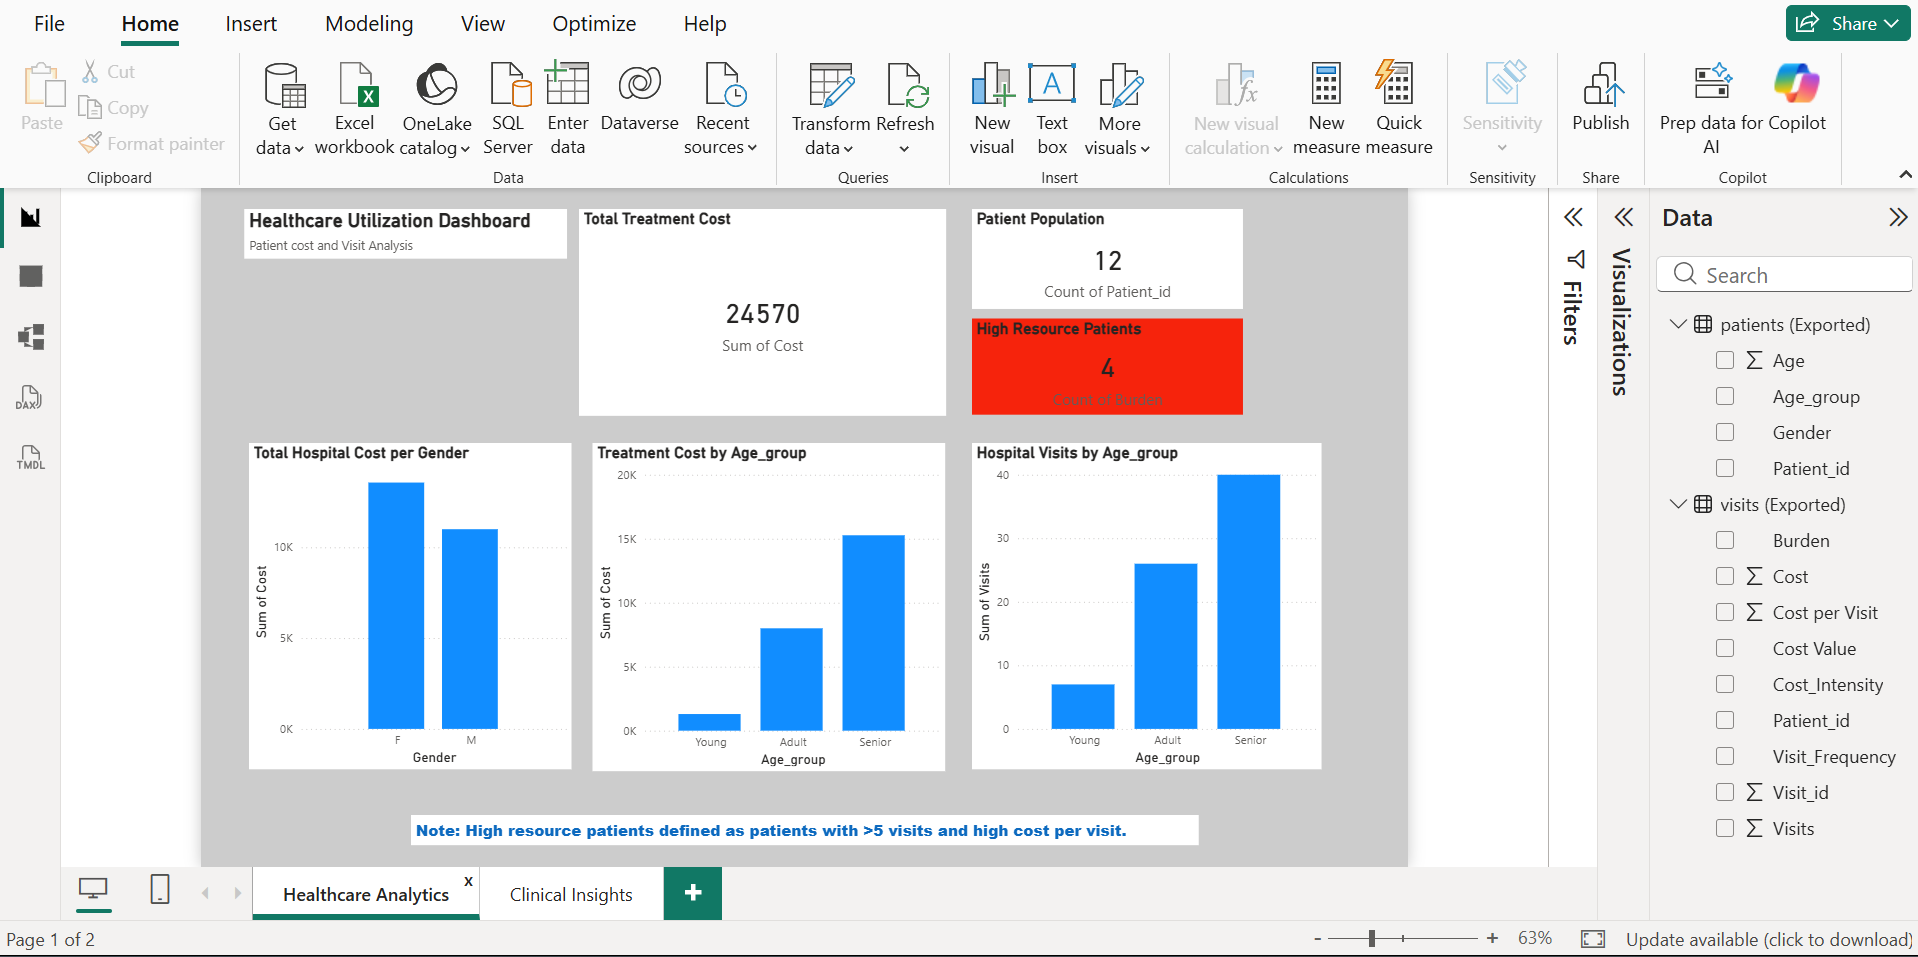

This screenshot's page, from the dashboard's own definition file:
{"tool":"powerbi","page":{"name":"Healthcare Analytics","canvas":[1280,720],"ordinal":0},"visuals":[{"type":"clusteredColumnChart","title":"Total Hospital Cost per Gender","fields":{"Category":["patients (Exported).Gender"],"Y":["Sum(visits (Exported).Cost)"]},"box":[51,270.2,342,345.8],"z":0},{"type":"clusteredColumnChart","title":"Hospital Visits by Age_group","fields":{"Category":["patients (Exported).Age_group"],"Y":["Sum(visits (Exported).Visits)"]},"box":[818.3,270.2,370.4,345.8],"z":1000},{"type":"card","title":"Total Treatment Cost","fields":{"Values":["Sum(visits (Exported).Cost)"]},"box":[400.6,22.7,389.3,219.2],"z":2000},{"type":"card","title":"Patient Population","fields":{"Values":["CountNonNull(patients (Exported).Patient_id)"]},"box":[818.3,22.7,287.2,105.8],"z":3000},{"type":"card","title":"High Resource Patients","fields":{"Values":["CountNonNull(visits (Exported).Burden)"]},"box":[818.3,138,287.2,102],"z":4000},{"type":"clusteredColumnChart","title":"Treatment Cost by Age_group","fields":{"Category":["patients (Exported).Age_group"],"Y":["Sum(visits (Exported).Cost)"]},"box":[415.8,270.2,374.2,347.7],"z":5000},{"type":"textbox","title":"Healthcare Utilization Dashboard","box":[45.4,22.7,342,52.9],"z":6000},{"type":"textbox","box":[223,665.2,835.3,32.1],"z":7000}]}

Visuals, with their boxes on the page's 1280x720 design canvas (x1, y1, x2, y2). These are canvas units, not pixel positions in the 1918x957 screenshot, which may show the page scaled, cropped or inside an application window:
"Total Hospital Cost per Gender" clusteredColumnChart: detection(51, 270, 393, 616)
"Hospital Visits by Age_group" clusteredColumnChart: detection(818, 270, 1189, 616)
"Total Treatment Cost" card: detection(401, 23, 790, 242)
"Patient Population" card: detection(818, 23, 1106, 128)
"High Resource Patients" card: detection(818, 138, 1106, 240)
"Treatment Cost by Age_group" clusteredColumnChart: detection(416, 270, 790, 618)
"Healthcare Utilization Dashboard" textbox: detection(45, 23, 387, 76)
textbox: detection(223, 665, 1058, 697)
